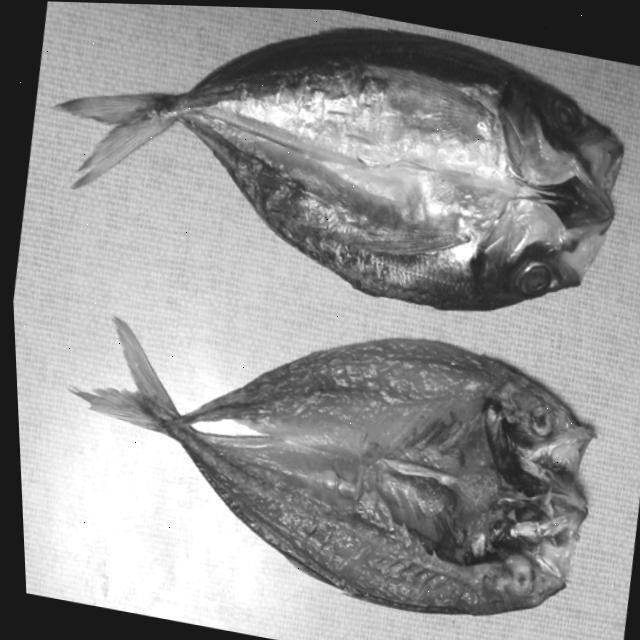熟制海鲜: (31, 270, 614, 640)
